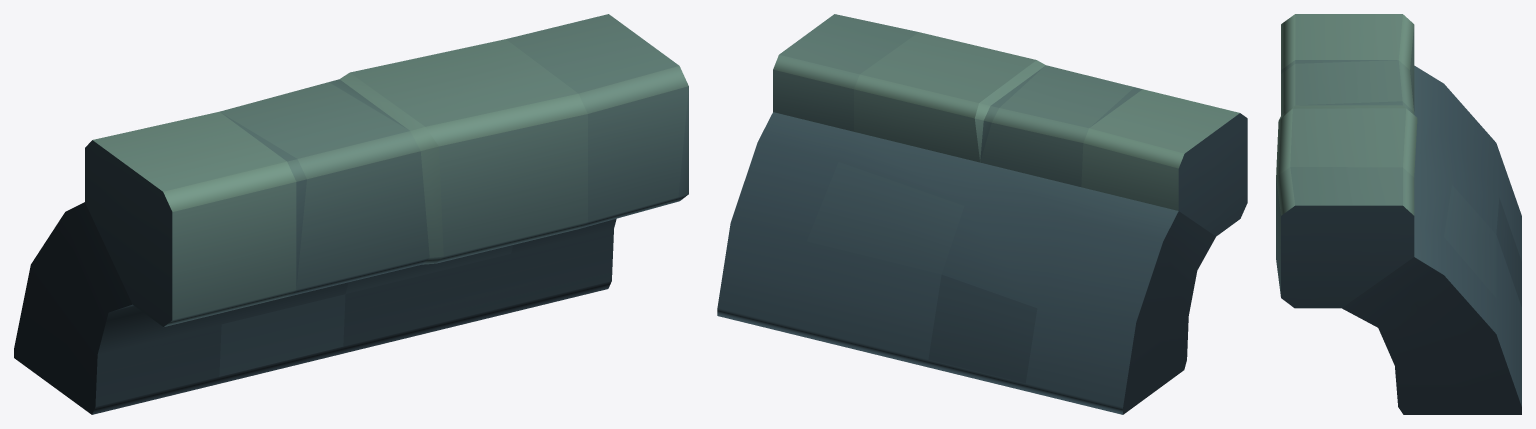
The model's file is wall_element_tileable_4meters_top.fbx.
3 views of the same model, side by side, from view 1: azimuth 30°, elevation 25°; view 2: azimuth 150°, elevation 25°; view 3: azimuth 270°, elevation 25° (orthographic). The views are drawn at different scales.
Visible parts, largest first — view 1: wall_element_tileable_4meters_top; view 2: wall_element_tileable_4meters_top; view 3: wall_element_tileable_4meters_top.
Boxes of the visible parts, box(x1,y1,x2,y2) form: wall_element_tileable_4meters_top: box(14, 14, 688, 414); wall_element_tileable_4meters_top: box(717, 14, 1247, 414); wall_element_tileable_4meters_top: box(1276, 14, 1521, 414).
Bounding box in the file's own units: 400 × 206 × 217.
